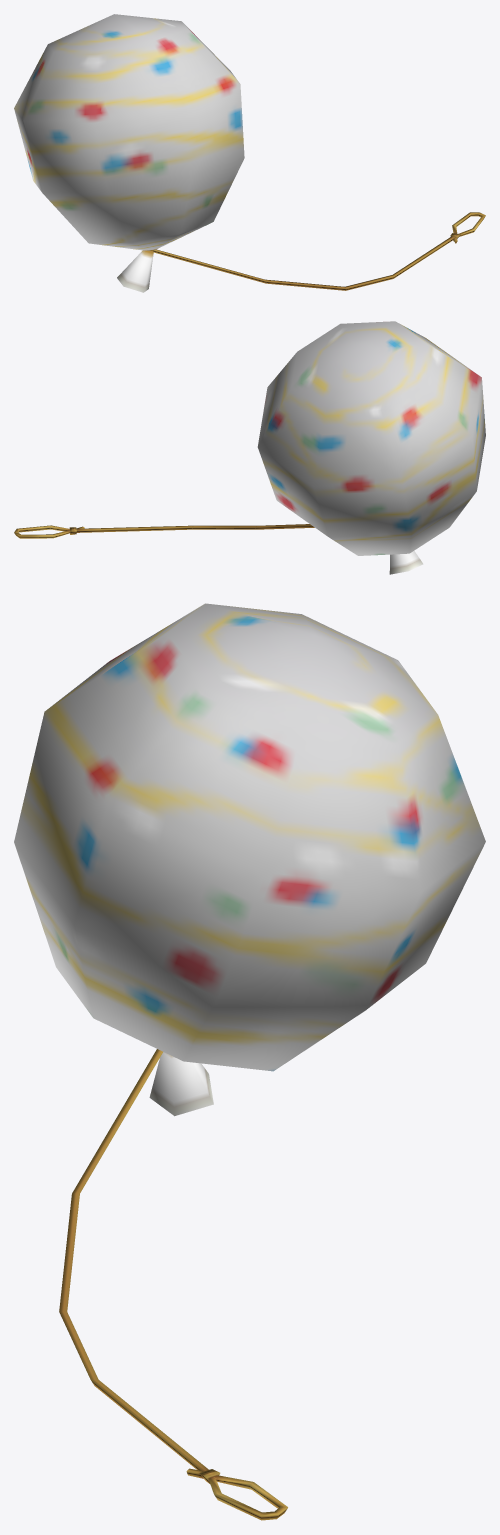
File: jsf_WaterBalloon_04_b.fbx
The picture shows the model from 3 angles, top to bottom: view 1: azimuth 30°, elevation 25°; view 2: azimuth 150°, elevation 25°; view 3: azimuth 270°, elevation 25°; orthographic projection. The views are drawn at different scales.
Parts seen in each view (by area): view 1: jsf_WaterBalloon_04_b; view 2: jsf_WaterBalloon_04_b; view 3: jsf_WaterBalloon_04_b.
Part boxes in pixels (x1,y1,x2,y2): jsf_WaterBalloon_04_b: [14, 14, 485, 292]; jsf_WaterBalloon_04_b: [14, 321, 485, 574]; jsf_WaterBalloon_04_b: [14, 603, 485, 1520].
Size of the model in its own units: 24.35 by 14.34 by 11.11.
